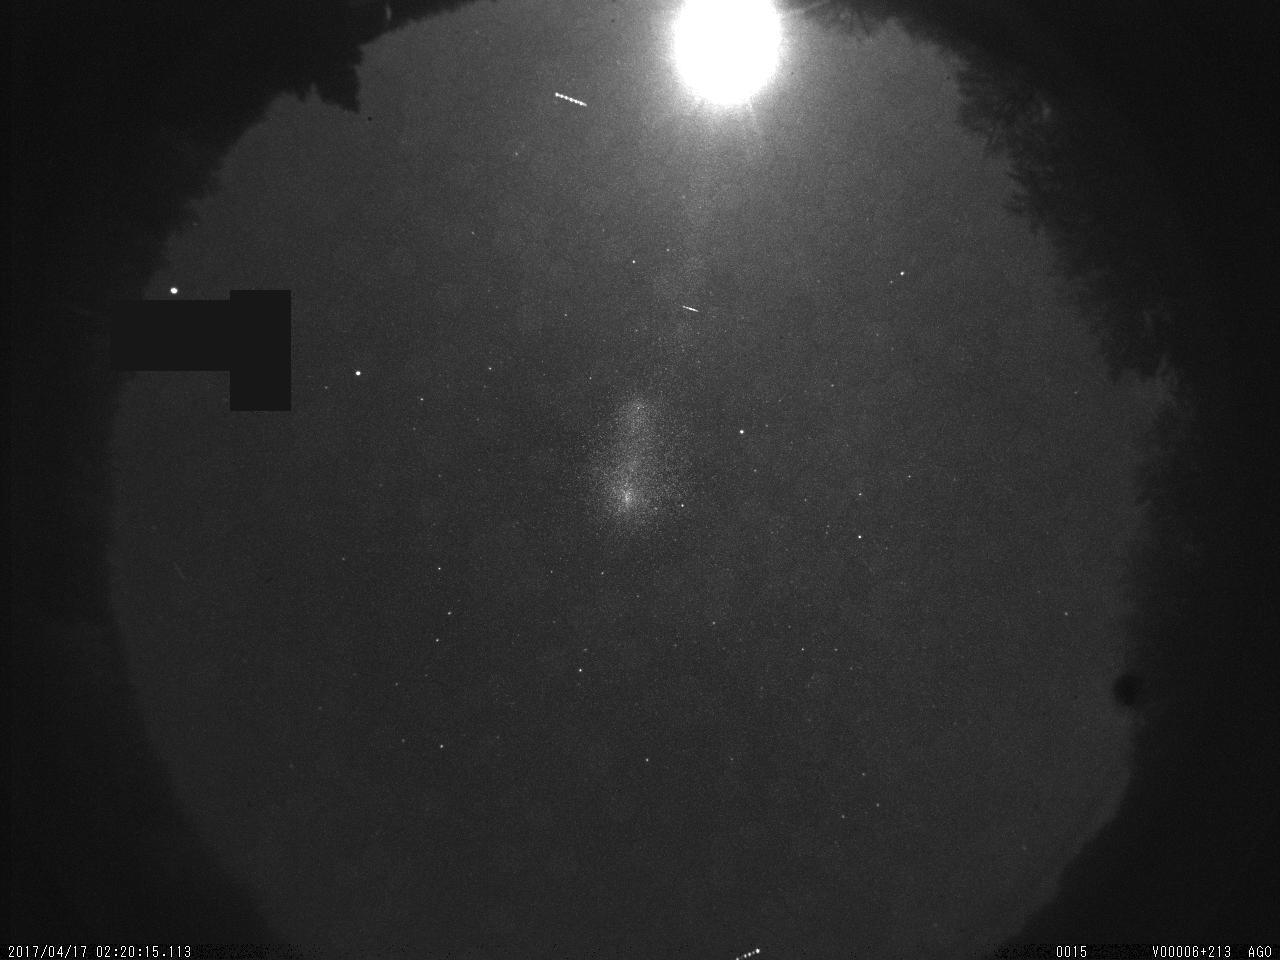Meteor: (677, 298, 703, 318)
